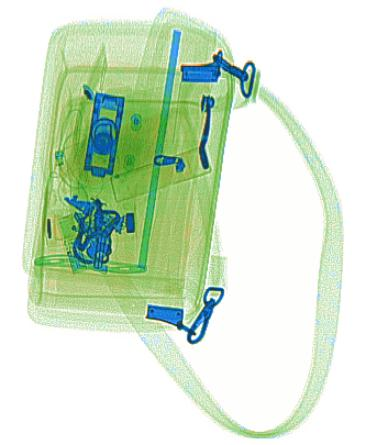USBFlashDisk: (53, 211, 92, 274)
